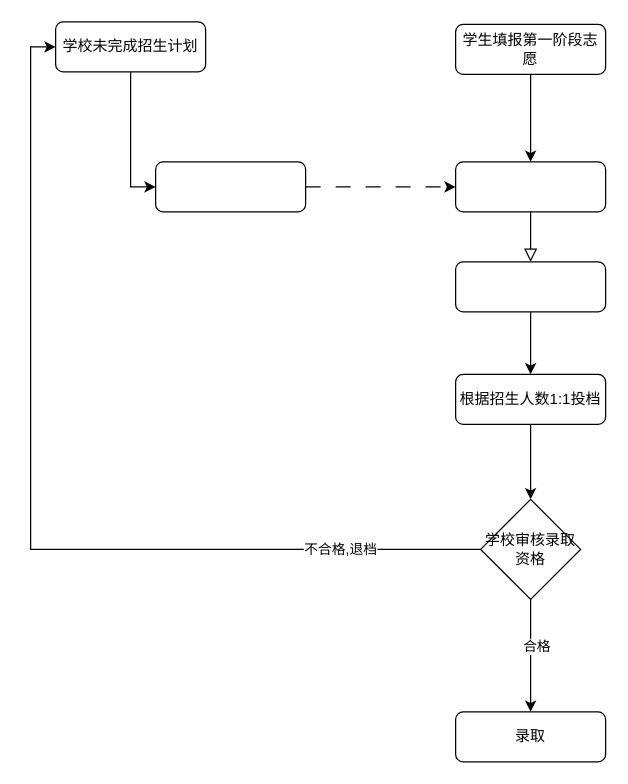
Some shapes in this 628 by 784 pixel diagram are drawn without their labels. The shapes that lost their labels are listed below. From the top down, each one's box as (x1, y1, x2, y2) in pixels, then its label:
(154, 161, 306, 212): 学生填报第二段志愿
(454, 161, 606, 212): 学校列出所有志愿报考本校的学生分数,从高到低排序
(454, 261, 606, 312): 同一考生进入多个学校队列,根据志愿顺序决定投档那个学校
